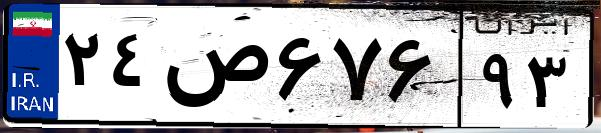2: (57, 26, 110, 100)
3: (525, 38, 570, 115)
4: (110, 28, 158, 98)
6: (270, 28, 330, 110), (385, 28, 445, 110)
7: (330, 28, 385, 110)
9: (475, 38, 525, 113)
ص: (158, 20, 270, 120)
